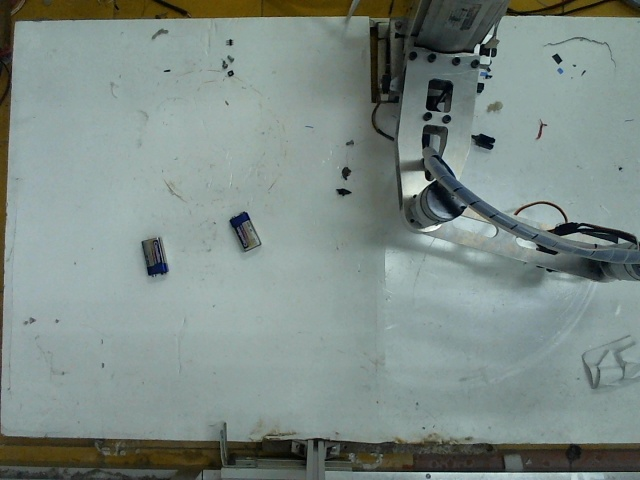battery: (227, 209, 266, 253), (137, 229, 168, 274)
